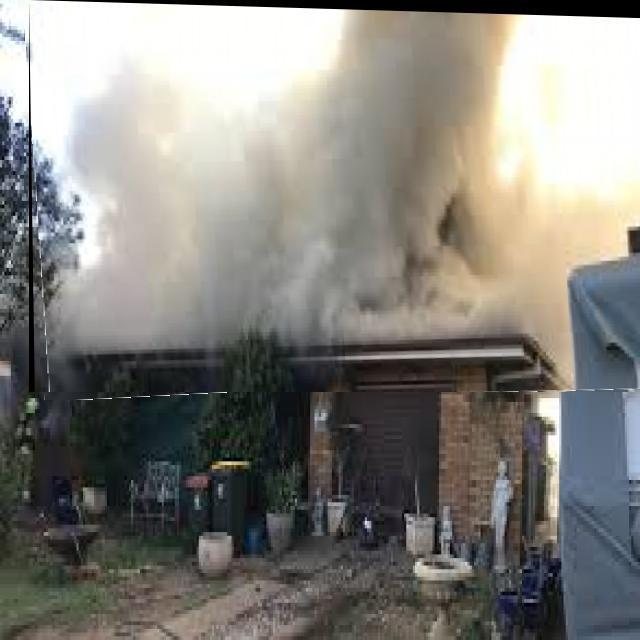smoke: (79, 182, 378, 352), (254, 16, 528, 176), (373, 179, 572, 336), (60, 65, 249, 182)
